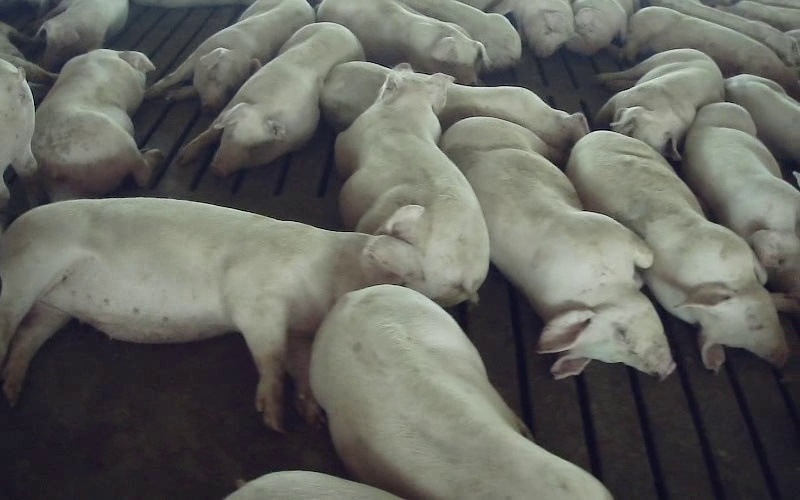pig: (0, 199, 423, 428), (311, 286, 610, 499), (441, 117, 674, 377), (566, 131, 787, 369), (336, 65, 488, 304), (178, 23, 363, 175), (682, 103, 799, 313), (32, 49, 161, 200), (621, 6, 797, 90), (317, 0, 488, 83), (595, 49, 724, 159), (400, 0, 521, 70), (463, 0, 582, 57), (725, 74, 799, 162), (572, 0, 633, 51)
